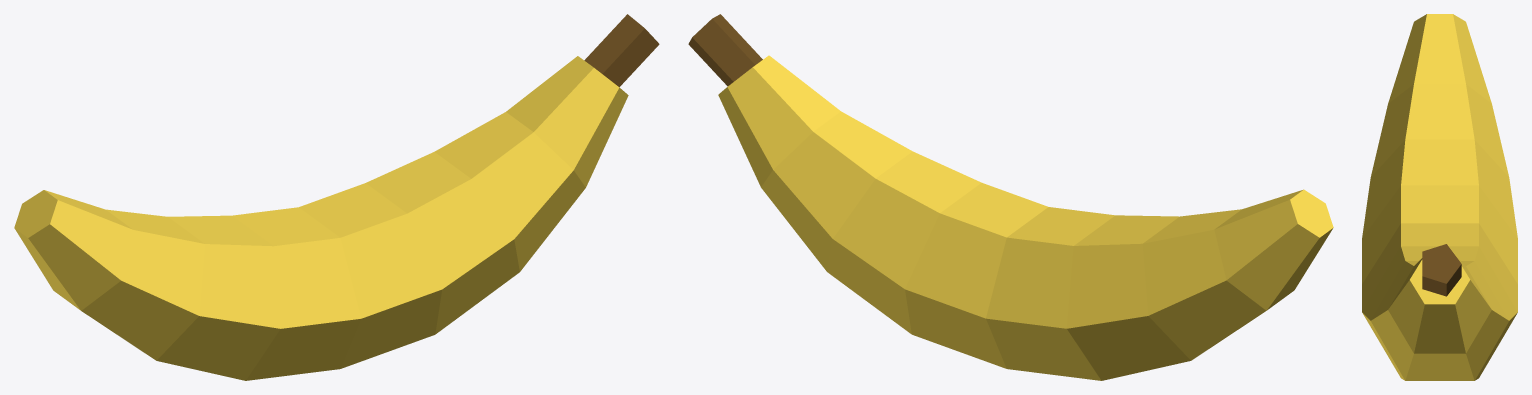
The model's file is banana.glb.
The picture shows the model from 3 angles, left to right: view 1: azimuth 30°, elevation 25°; view 2: azimuth 150°, elevation 25°; view 3: azimuth 270°, elevation 25°; orthographic projection. The views are drawn at different scales.
Parts seen in each view (by area): view 1: banana; view 2: banana; view 3: banana.
Part boxes in pixels (left/top/right/bottom): banana: left=14, top=14, right=659, bottom=380; banana: left=688, top=14, right=1333, bottom=380; banana: left=1362, top=14, right=1517, bottom=380.
Size of the model in its own units: 0.1575 by 0.062 by 0.036.
